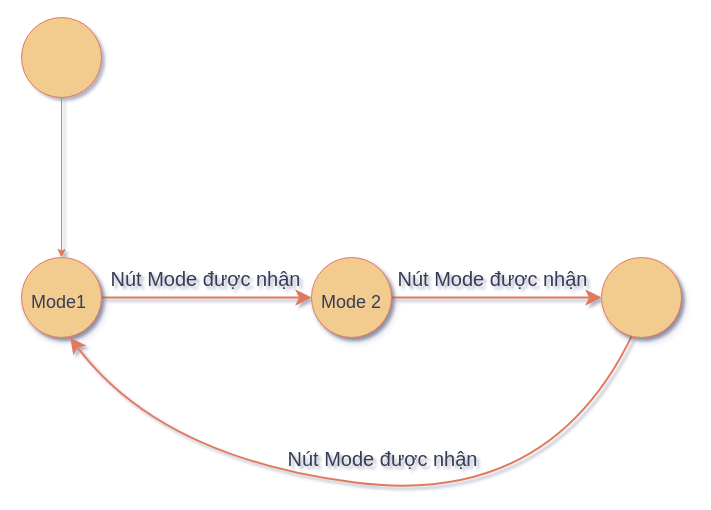
Image size: 711x510. Some labels were removed from this diagram. The centre of each missing label's shape, as x and y in pixels:
"INIT" goes at (x=61, y=57).
"Mode 3" goes at (x=642, y=298).
